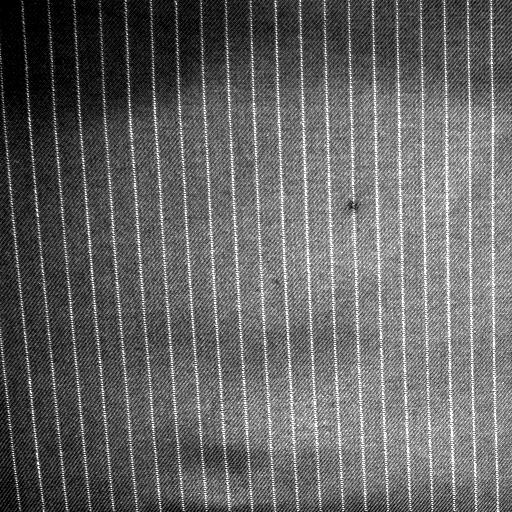fabric_hole: (342, 187, 362, 221)
